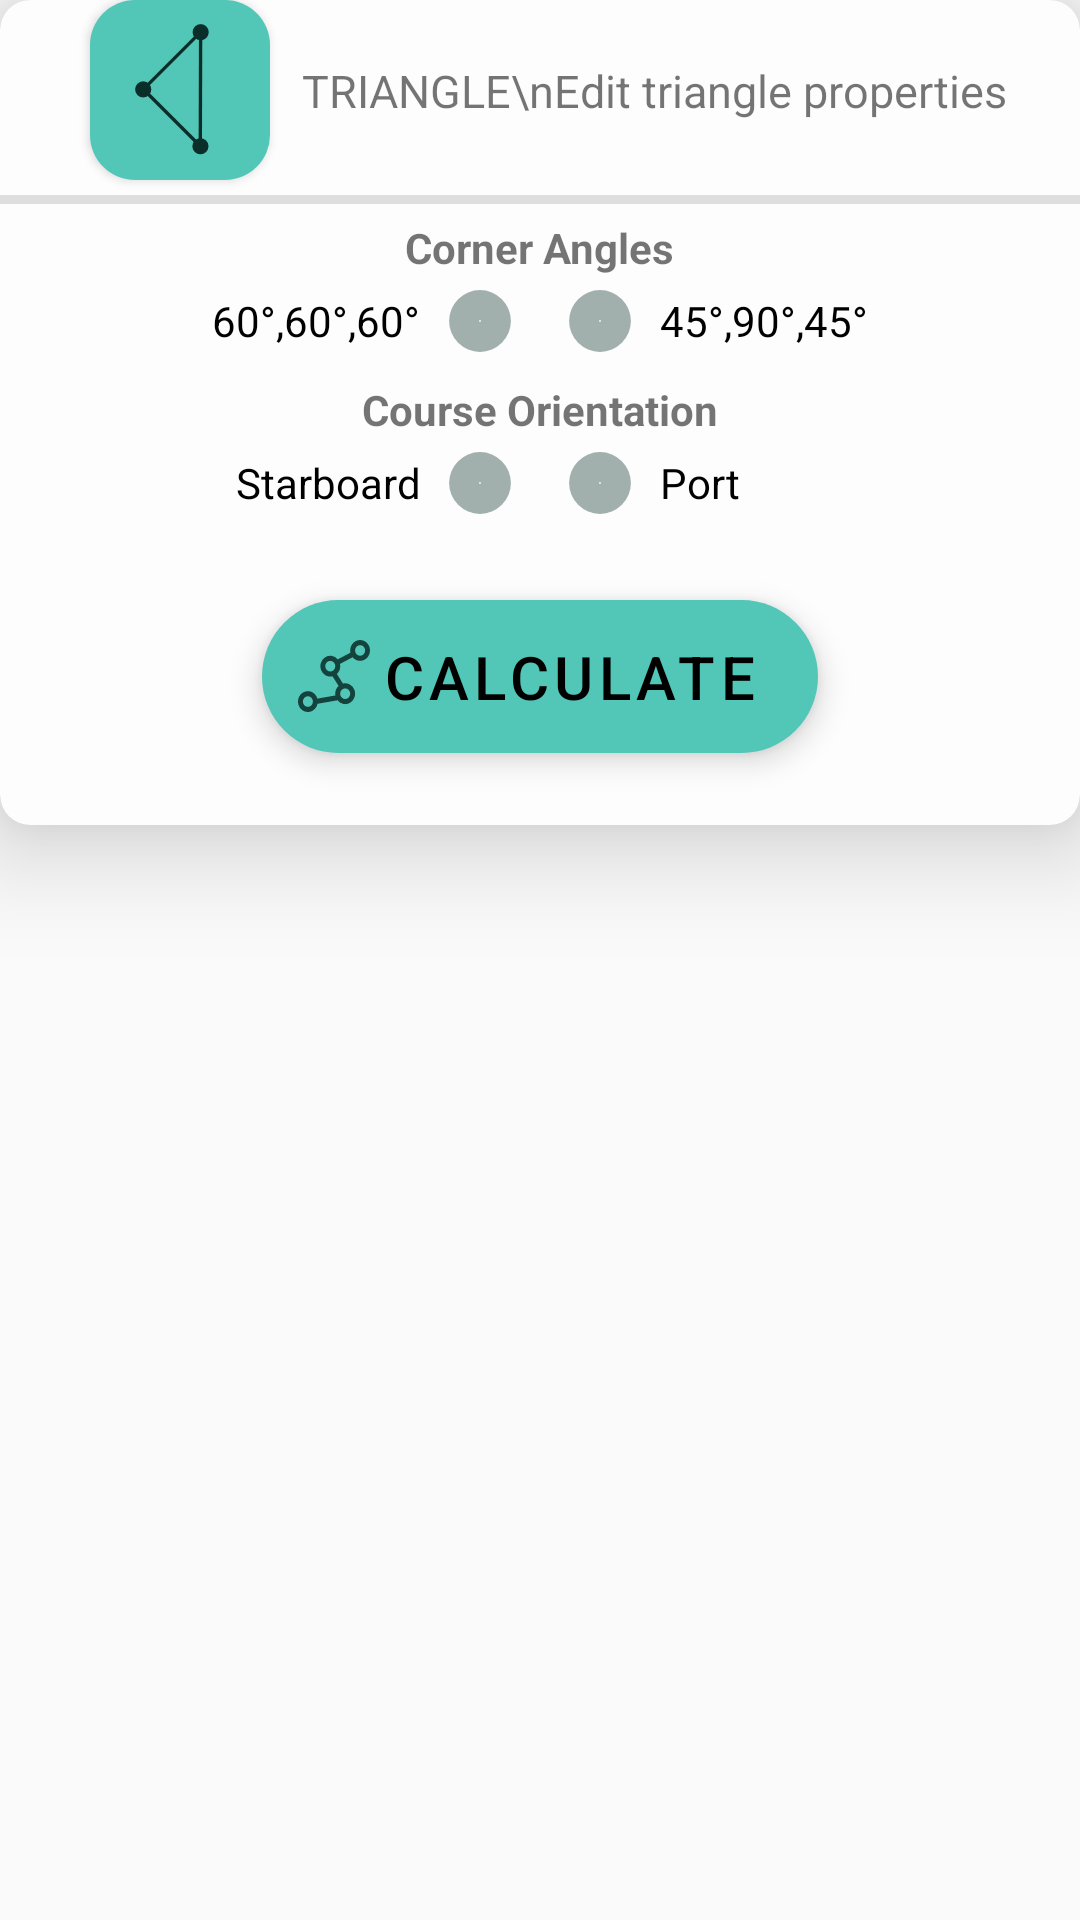

Screen size 1080 × 1920. Icon name, then its center in pixels as point (x, y):
triangle layout: point (172, 89)
